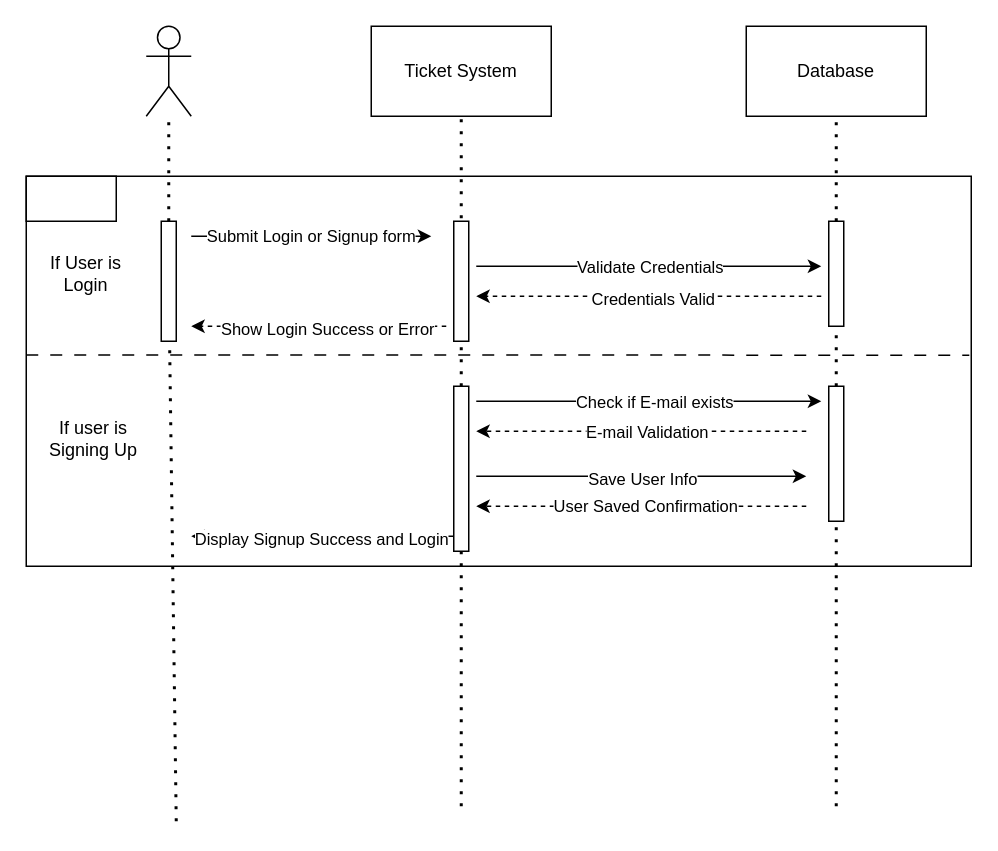
Some shapes in this 998 by 851 pixel diagram are drawn without their labels. Here are the shapes that lost their labels. From the top down, the box of each, then its label:
(145, 25, 191, 116): User
(25, 175, 116, 221): Alternative
